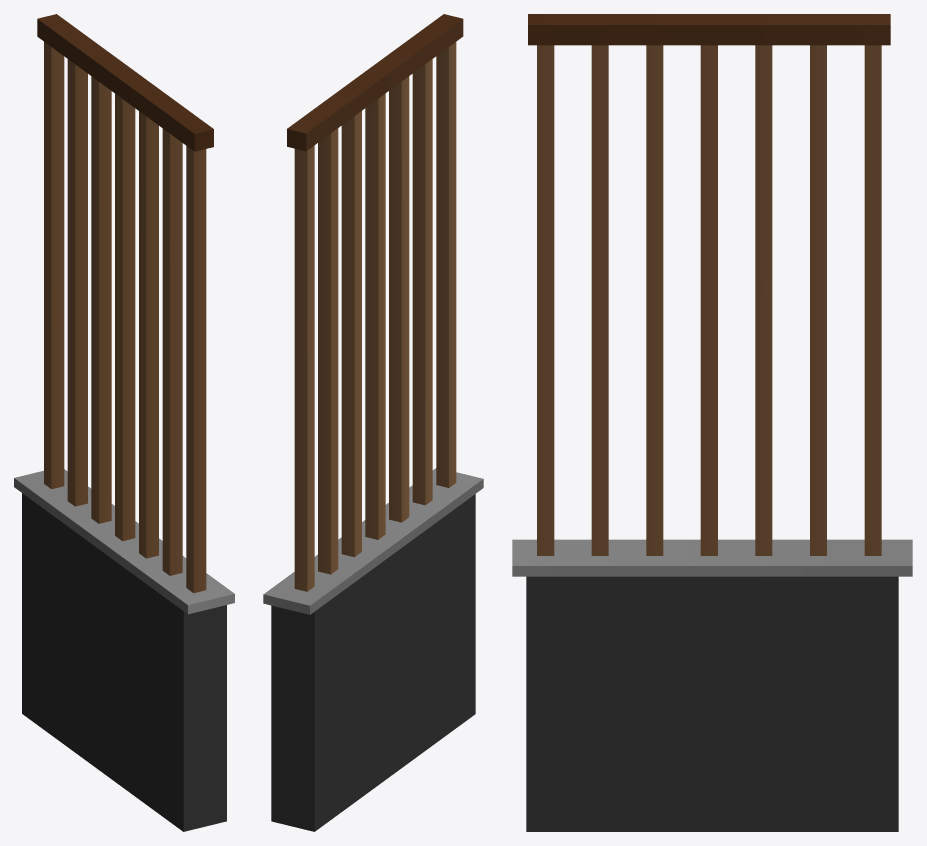
File: B01_Paravent_2.fbx
The picture shows the model from 3 angles, left to right: view 1: azimuth 30°, elevation 25°; view 2: azimuth 150°, elevation 25°; view 3: azimuth 270°, elevation 25°; orthographic projection. The views are drawn at different scales.
Parts seen in each view (by area): view 1: B01_Paravent_2; view 2: B01_Paravent_2; view 3: B01_Paravent_2.
Boxes of the visible parts, <box> form: B01_Paravent_2: <box>14,14,234,831</box>; B01_Paravent_2: <box>263,14,483,831</box>; B01_Paravent_2: <box>512,14,912,831</box>.
Size of the model in its own units: 21.51 by 305 by 138.
